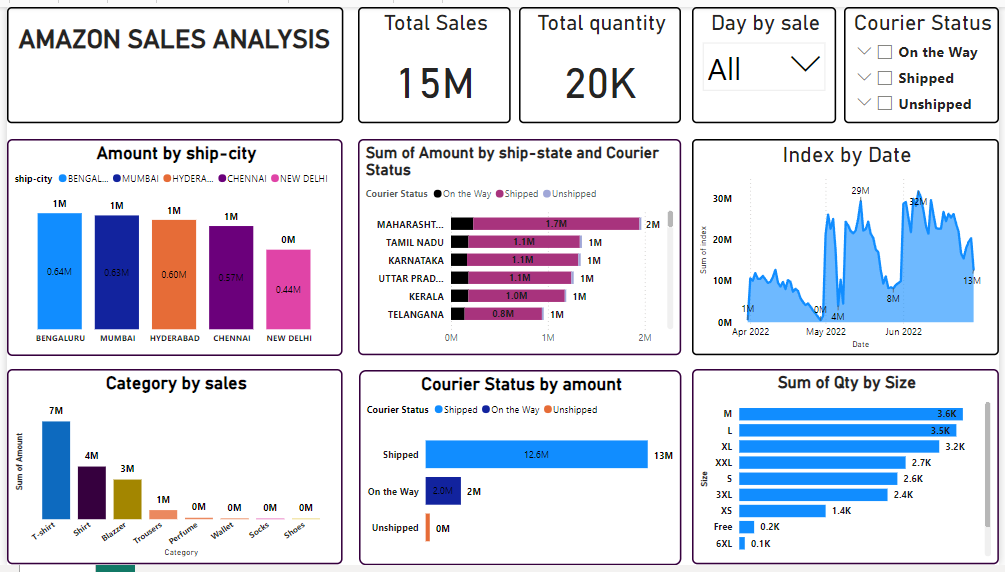

The dashboard page shown, as its layout file describes it:
{"tool":"powerbi","page":{"name":"Page 1","canvas":[1280,720],"ordinal":0},"visuals":[{"type":"clusteredColumnChart","title":"Category by sales","fields":{"Category":["Amazon Sale Report.Category"],"Y":["Sum(Amazon Sale Report.Amount)"]},"box":[0,467.7,433.1,251.8],"z":0},{"type":"barChart","title":"Courier Status by amount","fields":{"Category":["Amazon Sale Report.Courier Status"],"Y":["Sum(Amazon Sale Report.Amount)"],"Series":["Amazon Sale Report.Courier Status"]},"box":[454.2,468,415.7,251.9],"z":1000},{"type":"columnChart","title":" Amount by ship-city","fields":{"Category":["Amazon Sale Report.ship-city"],"Y":["Sum(Amazon Sale Report.Amount)"],"Series":["Amazon Sale Report.ship-city"]},"box":[0,170.2,433.1,279.5],"z":2000},{"type":"barChart","fields":{"Category":["Amazon Sale Report.ship-state"],"Y":["Sum(Amazon Sale Report.Amount)"],"Series":["Amazon Sale Report.Courier Status"]},"box":[452.8,170.7,417,279.4],"z":3000},{"type":"card","title":"Total Sales","fields":{"Values":["Sum(Amazon Sale Report.Amount)"]},"box":[452.8,0,196.8,150],"z":4000},{"type":"card","title":"Total quantity","fields":{"Values":["Sum(Amazon Sale Report.Qty)"]},"box":[660.6,0,209.2,150],"z":5000},{"type":"slicer","title":"Day by sale","fields":{"Values":["Amazon Sale Report.Date"]},"box":[883.6,0,185.8,150],"z":6000},{"type":"clusteredBarChart","fields":{"Category":["Amazon Sale Report.Size"],"Y":["Sum(Amazon Sale Report.Qty)"]},"box":[884.2,467.7,395.8,251.8],"z":7000},{"type":"slicer","title":"Courier Status","fields":{"Values":["Amazon Sale Report.Courier Status","Amazon Sale Report.Status"]},"box":[1080.4,0,199.6,150],"z":8000},{"type":"lineChart","title":" index by Date","fields":{"Category":["Amazon Sale Report.Date"],"Y":["Sum(Amazon Sale Report.index)"]},"box":[883.6,170.7,396.4,279.4],"z":9000},{"type":"textbox","title":"AMAZON SALES ANALYSIS","box":[0,0,433.5,150],"z":10000}]}

Visuals, with their boxes in screenshot pixels (x1, y1, x2, y2), scaled from the page's 1280x720 canvas onto the 1005x572 screenshot:
"Category by sales" clusteredColumnChart: BBox(0, 372, 340, 571)
"Courier Status by amount" barChart: BBox(357, 372, 683, 571)
" Amount by ship-city" columnChart: BBox(0, 135, 340, 357)
barChart - Amazon Sale Report.ship-state x Sum(Amazon Sale Report.Amount): BBox(356, 136, 683, 358)
"Total Sales" card: BBox(356, 0, 510, 119)
"Total quantity" card: BBox(519, 0, 683, 119)
"Day by sale" slicer: BBox(694, 0, 840, 119)
clusteredBarChart - Amazon Sale Report.Size x Sum(Amazon Sale Report.Qty): BBox(694, 372, 1004, 571)
"Courier Status" slicer: BBox(848, 0, 1004, 119)
" index by Date" lineChart: BBox(694, 136, 1004, 358)
"AMAZON SALES ANALYSIS" textbox: BBox(0, 0, 340, 119)
